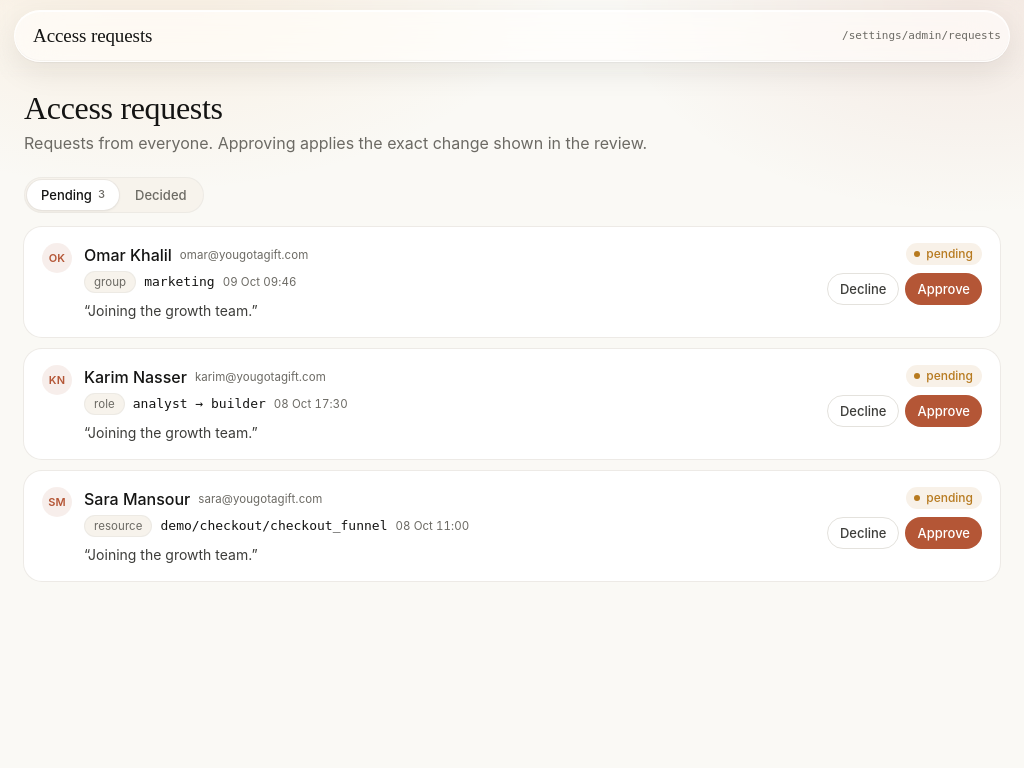
AdminRequestsPage › Decided lists finished requests with the decider and note
The image size is (1024, 768).
Expected: the element "Omar Khalil" is shown, [24, 227, 1000, 337]
Step 1. Click the tab "Decided" → (161, 195), box [121, 180, 200, 210]
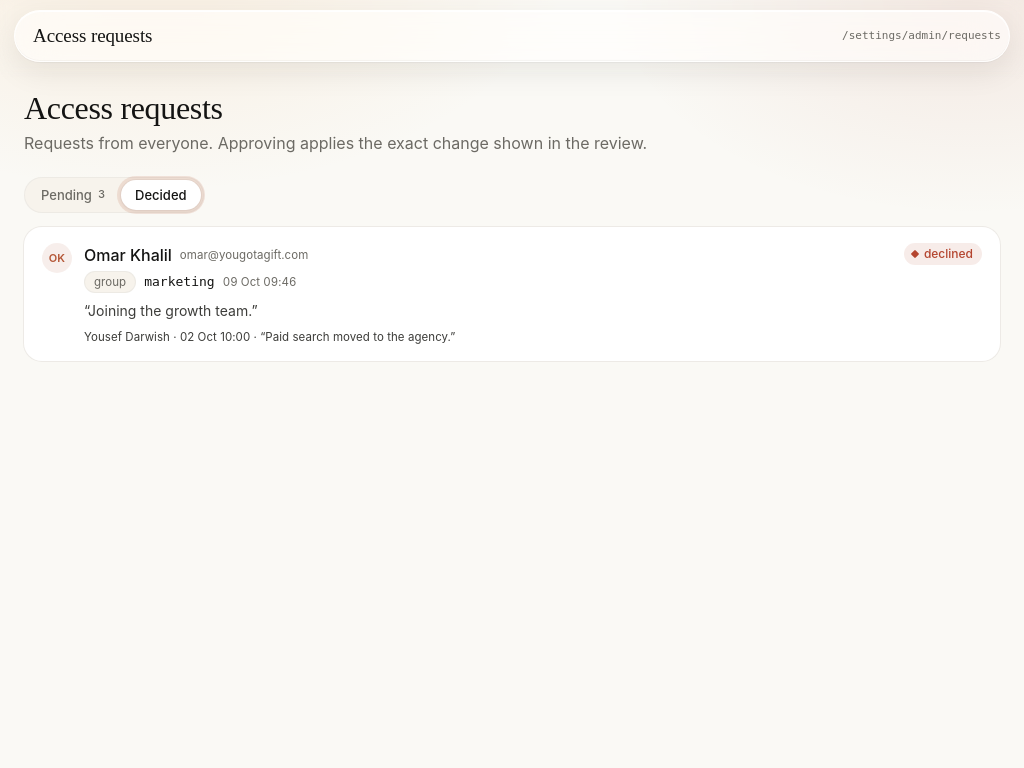
Expected: the text "declined" is shown, [904, 243, 982, 265]
Expected: the text "Paid search moved to the agency." is shown, [84, 330, 455, 344]
